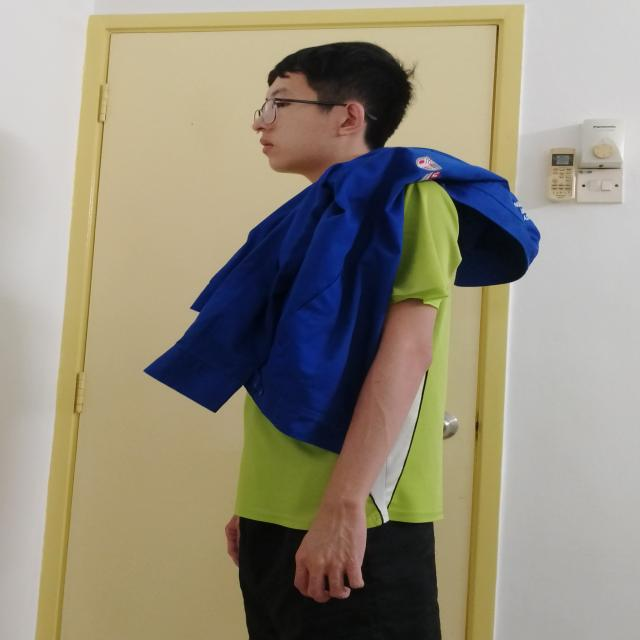person_without_labcoat: (145, 42, 539, 640)
